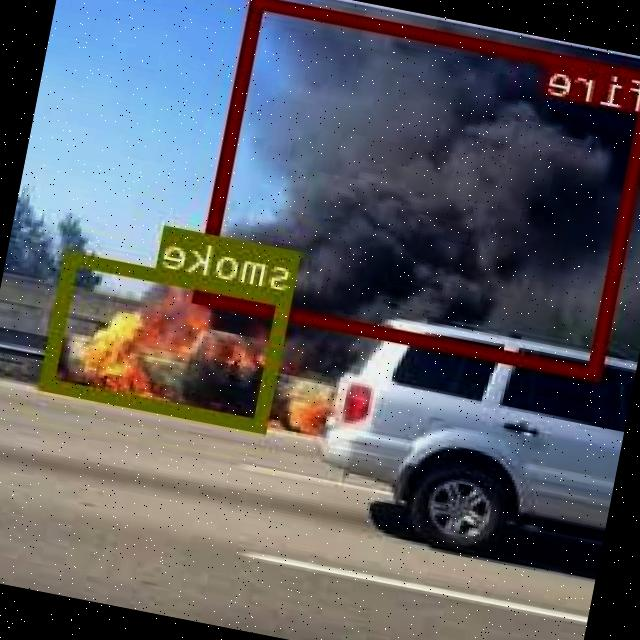fire: (197, 0, 640, 379)
smoke: (41, 248, 296, 432)
